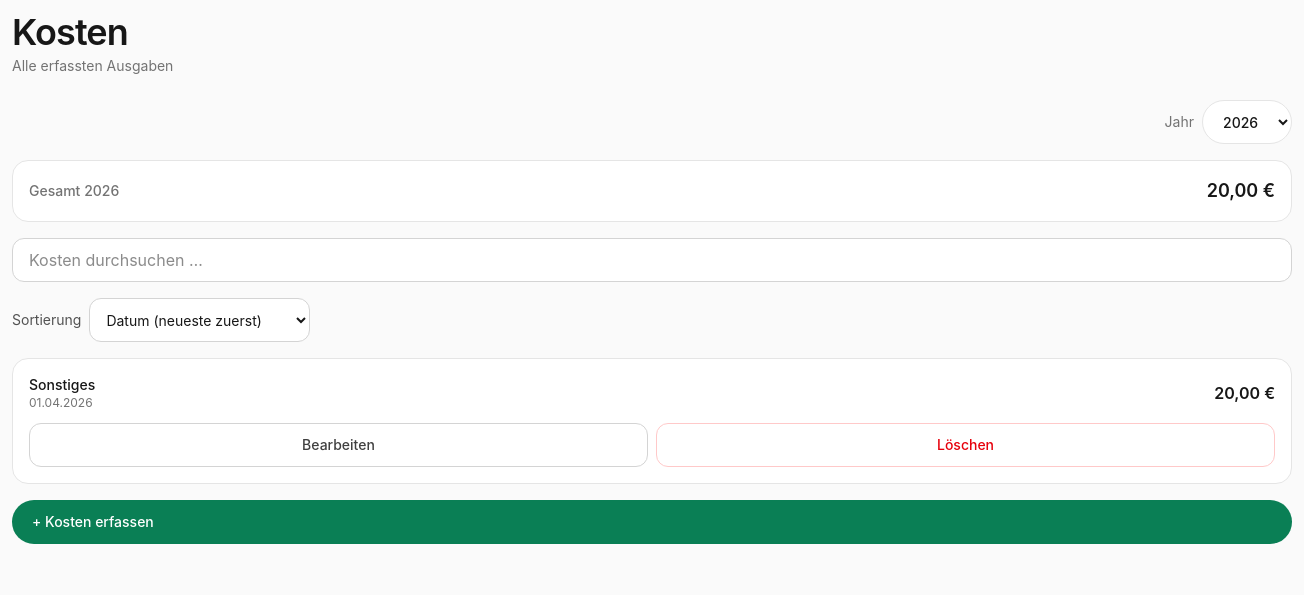
CostsPage › combines the year filter with search - a match in a different year stays hidden
The width and height of the screenshot is (1304, 595).
Step 1. Type "Kaminkehrer" into the search field labelled "Kosten durchsuchen" → [652, 260], box x1=12 y1=238 x2=1292 y2=282
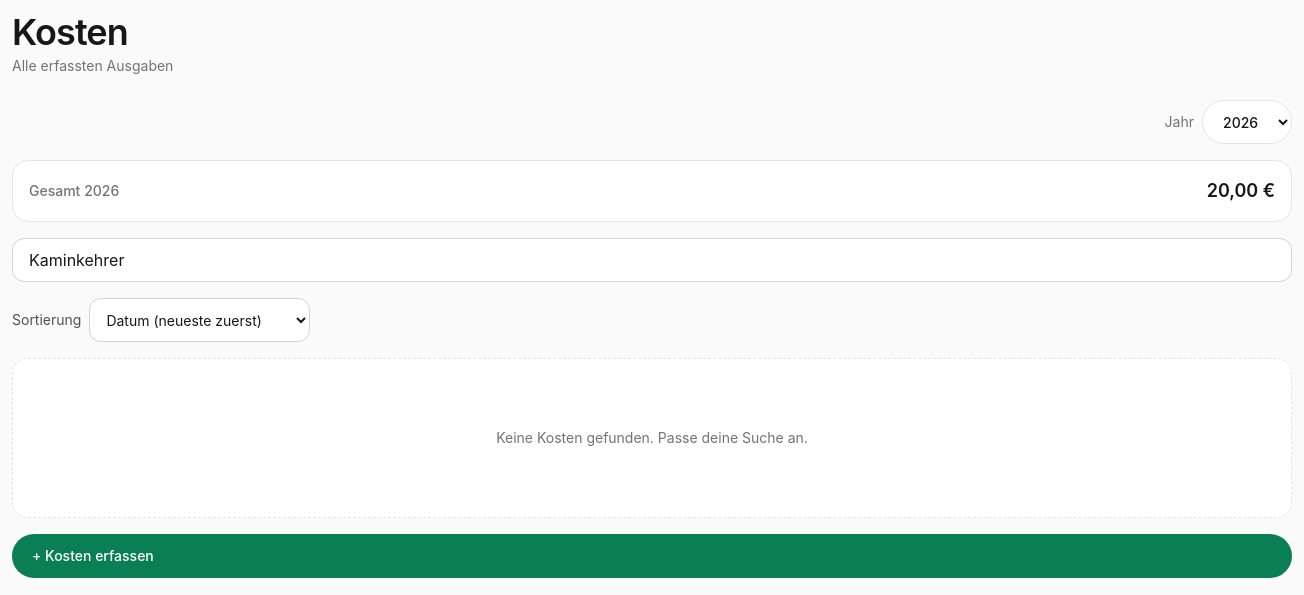
Result: the text "Keine Kosten gefunden. Passe deine Suche an." is shown at x1=496 y1=428 x2=808 y2=448
Step 2. Select "2025" in the dropdown labelled "Jahr" → [1247, 122], box x1=1202 y1=100 x2=1292 y2=144
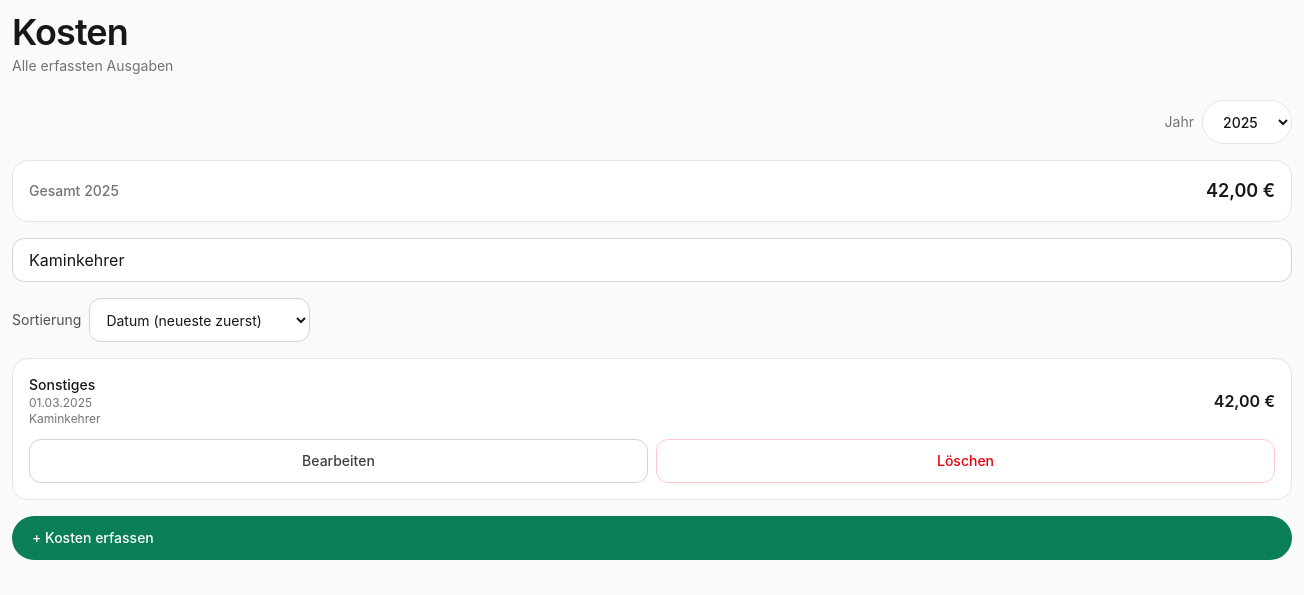
Result: the text "Gesamt 2025" is shown at x1=29 y1=181 x2=119 y2=201
Result: the list item shows "Kaminkehrer" at x1=29 y1=375 x2=1275 y2=427
